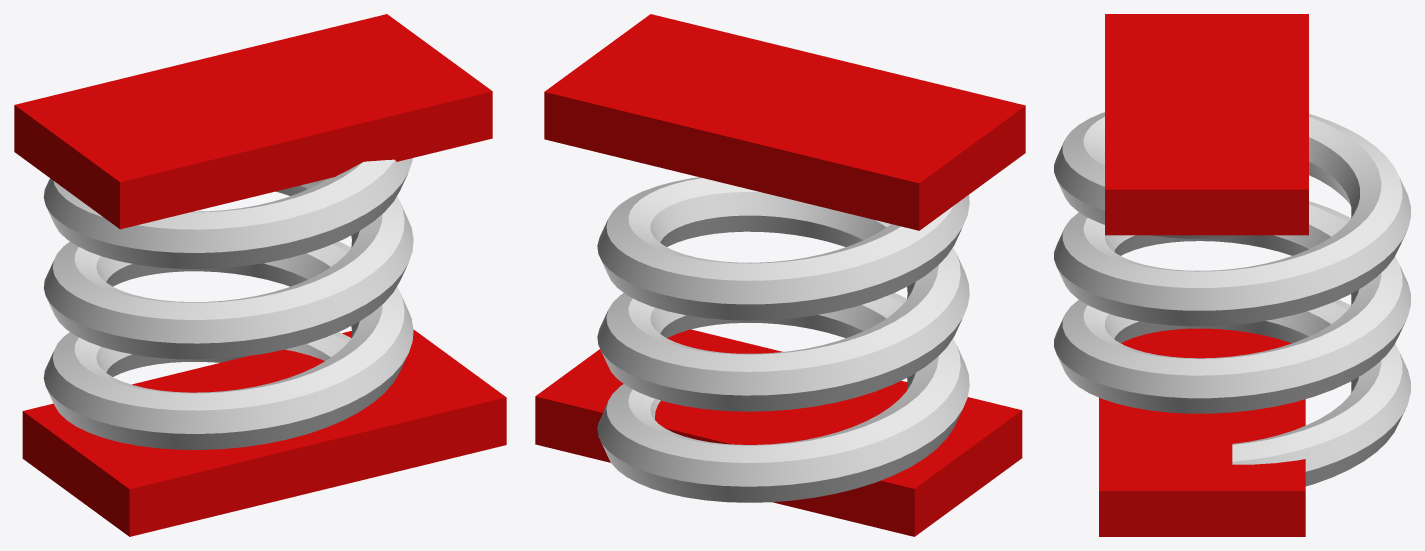
File: Jumpramp.fbx
3 views of the same model, side by side, from view 1: azimuth 30°, elevation 25°; view 2: azimuth 150°, elevation 25°; view 3: azimuth 270°, elevation 25° (orthographic). The views are drawn at different scales.
Visible parts, largest first — view 1: polySurface4; view 2: polySurface4; view 3: polySurface4.
Part boxes in pixels (<box>): polySurface4: <box>14,14,506,536</box>; polySurface4: <box>535,14,1025,536</box>; polySurface4: <box>1054,14,1410,536</box>.
Bounding box in the file's own units: 3.26 × 2.88 × 2.72.
